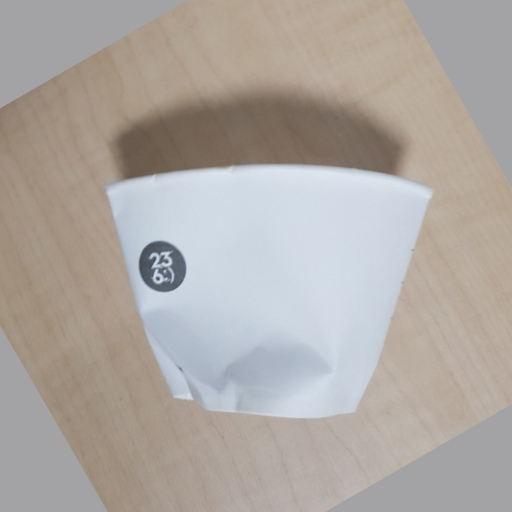Paper_1: (103, 159, 434, 421)
